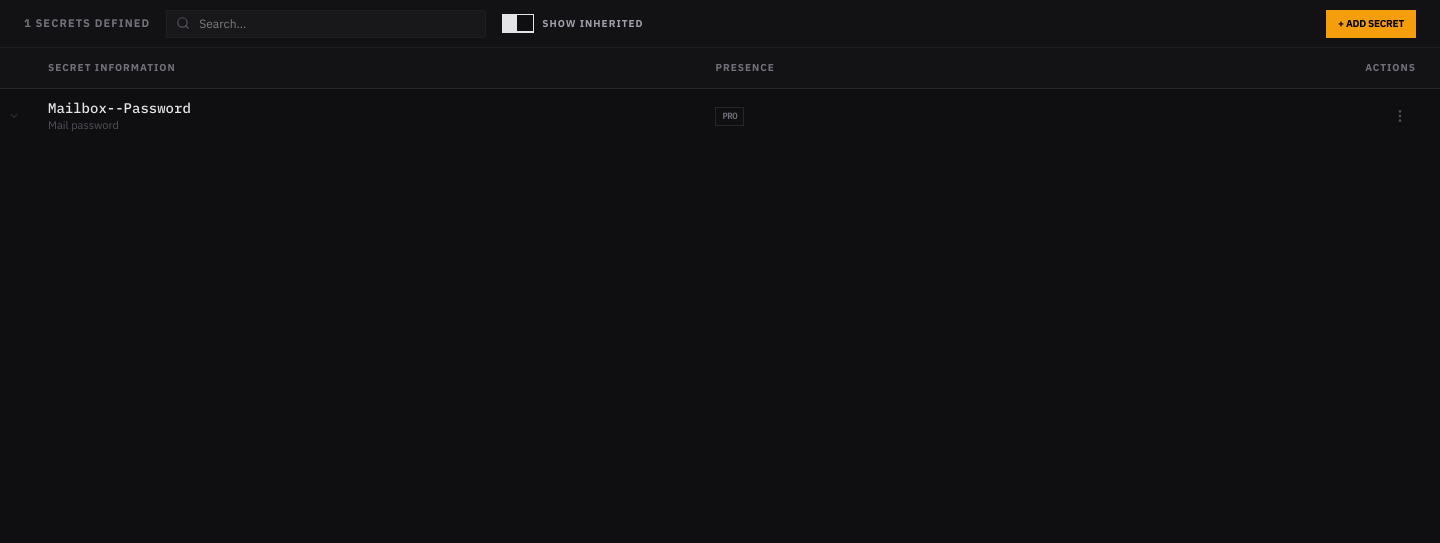
Test: GrimoireTab › resolves status and latest version strictly from /versions/{envSlug} metadata
Expected: the text "pro" is shown, left=715, top=107, right=744, bottom=126
Click the text "Mailbox--Password". click: click(119, 108)
box: left=48, top=98, right=191, bottom=118
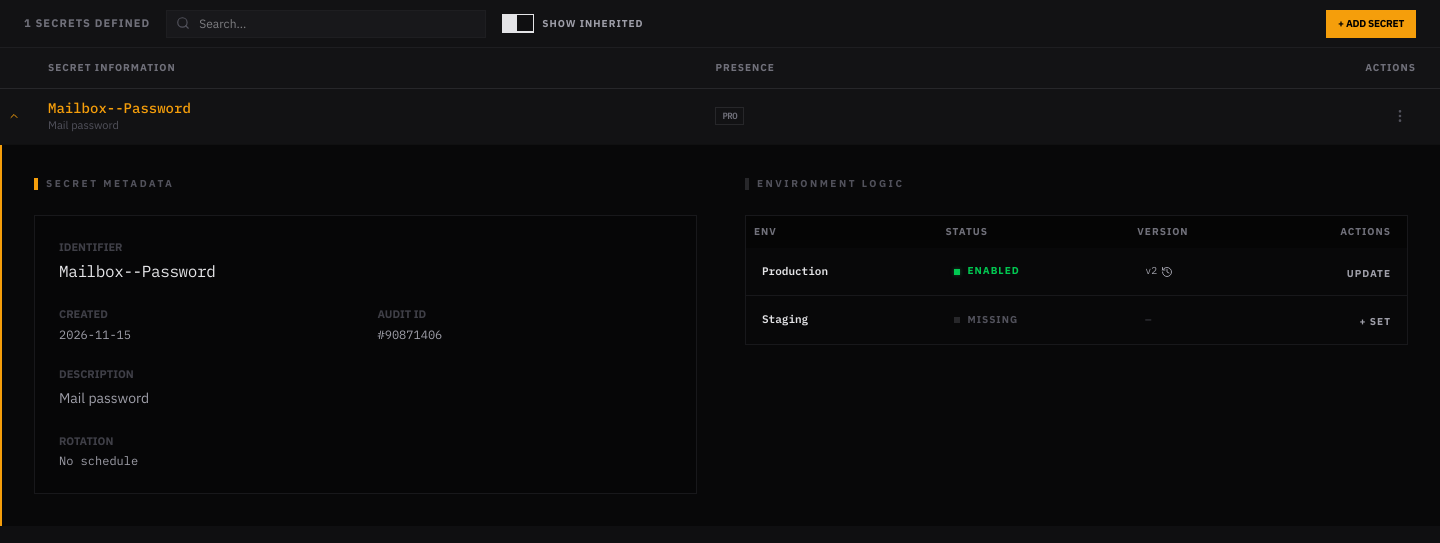
Result: the text "#90871406" is shown at left=378, top=327, right=442, bottom=342
Result: the text "enabled" is shown at left=968, top=264, right=1020, bottom=279
Result: the text "v2" is shown at left=1145, top=264, right=1157, bottom=279
